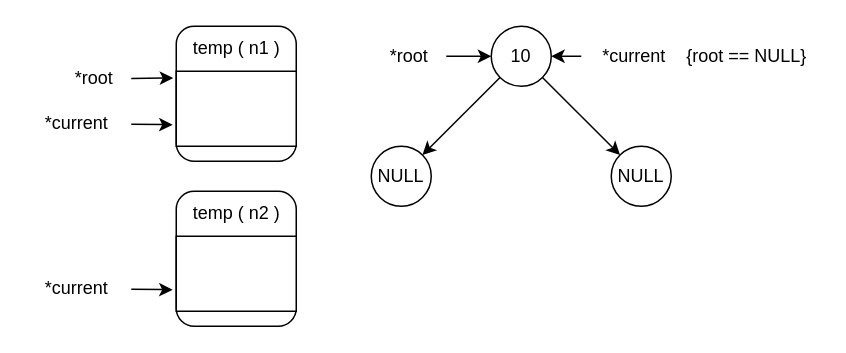
The diagram is 846 pixels wide and 353 high, and some of its shapes have lost their labels. Each missing label, with the box of its shape:
data -> 10 left -> NULL right -> NULL: (175, 70, 296, 146)
data -> 20 left -> NULL right -> NULL: (175, 235, 296, 311)
